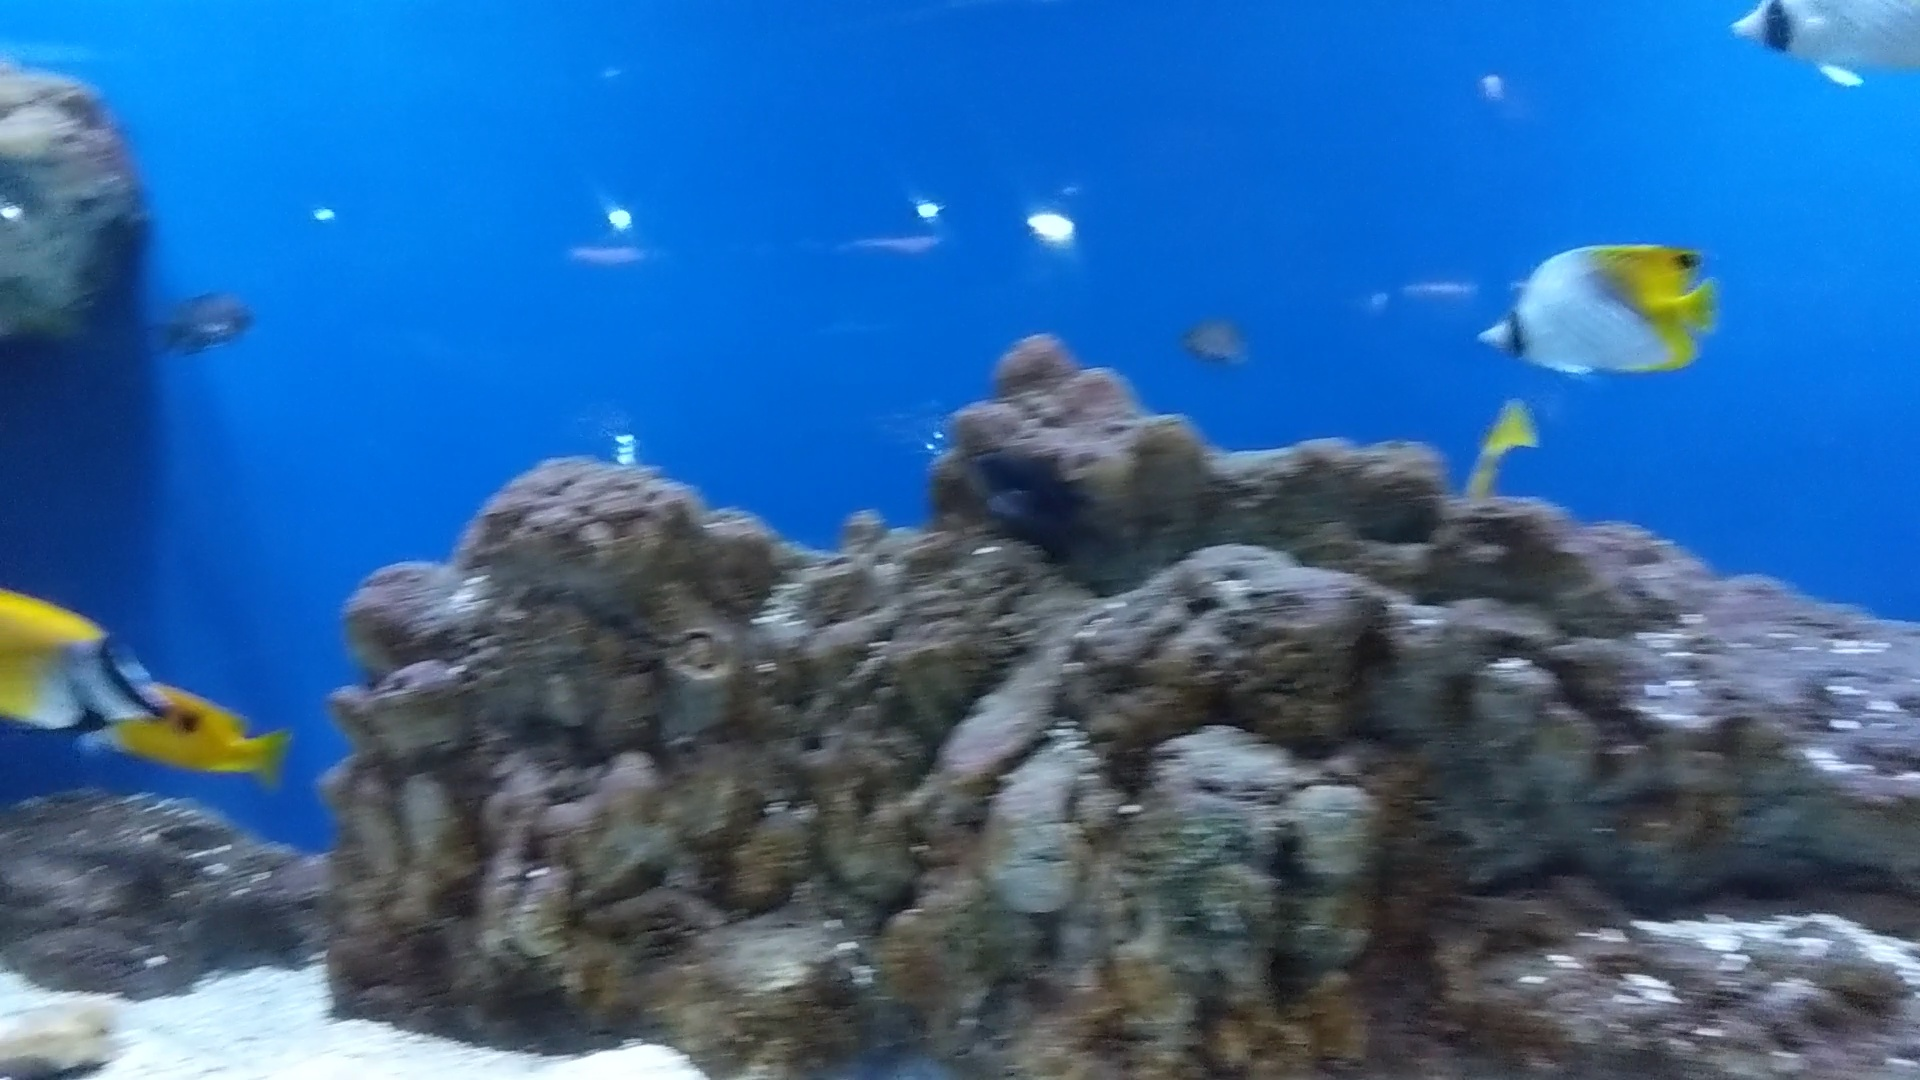butterflyfish: (1470, 243, 1710, 367)
rabbitfish: (69, 661, 270, 785), (0, 599, 142, 754)
